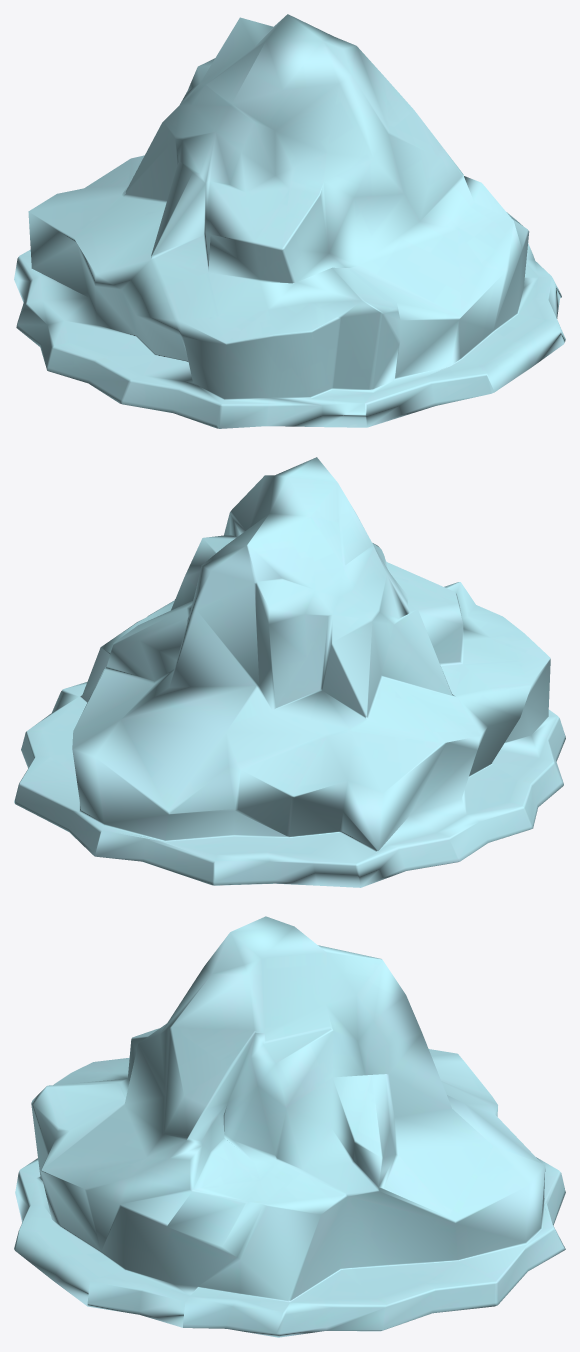
The model's file is iceberg.glb.
3 views of the same model, one above another, from view 1: azimuth 30°, elevation 25°; view 2: azimuth 150°, elevation 25°; view 3: azimuth 270°, elevation 25° (orthographic).
Parts seen in each view (by area): view 1: 0; view 2: 0; view 3: 0.
Part boxes in pixels (left/top/right/bottom): 0: left=14, top=14, right=565, bottom=428; 0: left=14, top=457, right=565, bottom=887; 0: left=14, top=916, right=565, bottom=1337.
Size of the model in its own units: 1.88 by 1.11 by 1.88.
1 material, 1 textured.
